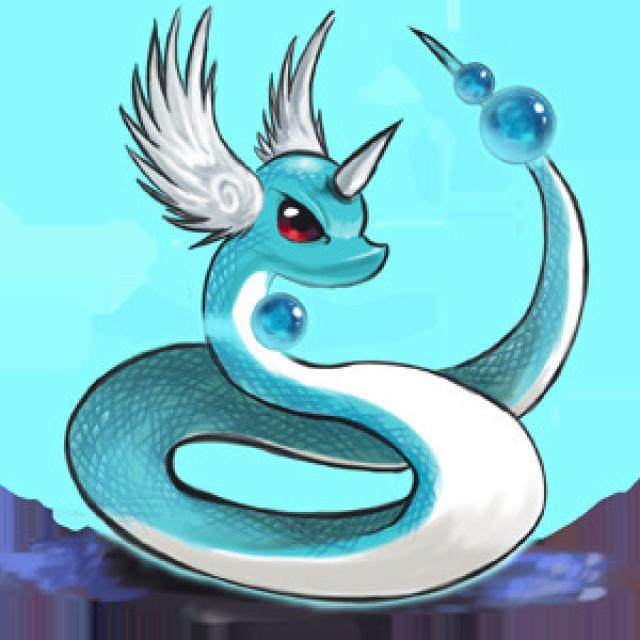Dragonair: (154, 116, 477, 591)
